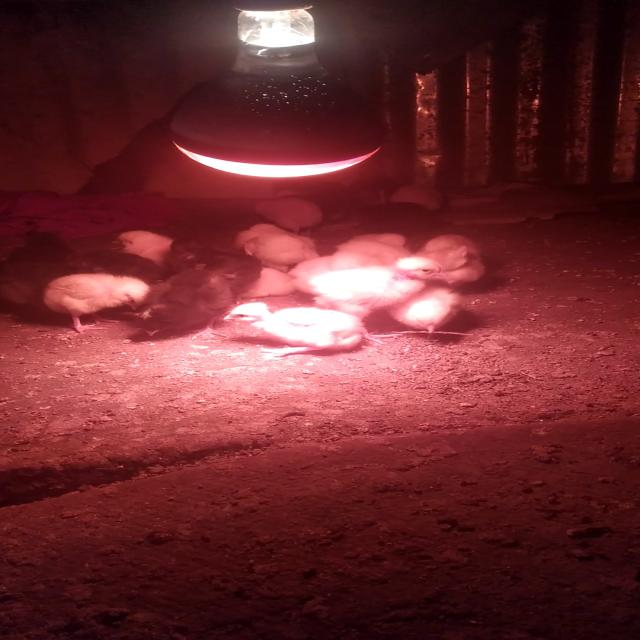chick: (302, 257, 447, 347), (220, 302, 364, 357), (140, 271, 251, 342), (40, 273, 153, 334), (333, 240, 422, 308), (288, 250, 389, 308), (165, 234, 261, 294), (77, 250, 182, 302), (195, 260, 316, 302), (382, 278, 463, 339), (112, 230, 194, 288), (233, 234, 328, 282), (407, 235, 484, 292), (228, 224, 322, 270), (243, 193, 324, 240), (389, 182, 449, 222), (86, 267, 86, 269)
